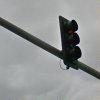Traffic light: (50, 10, 87, 70)
